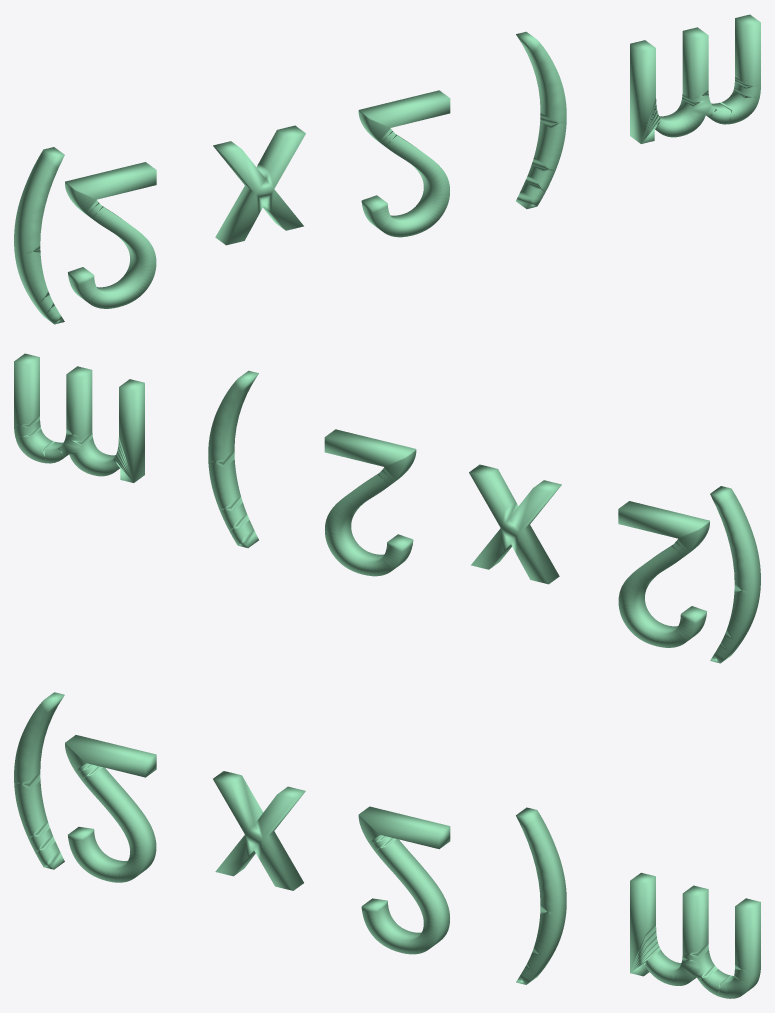
File: start_note.013.obj
The picture shows the model from 3 angles, top to bottom: view 1: azimuth 30°, elevation 25°; view 2: azimuth 150°, elevation 25°; view 3: azimuth 330°, elevation 25°; orthographic projection.
Parts seen in each view (by area): view 1: start_note.013; view 2: start_note.013; view 3: start_note.013.
Part boxes in pixels (x1=…): start_note.013: x1=14, y1=14, x2=760, y2=324; start_note.013: x1=14, y1=353, x2=760, y2=663; start_note.013: x1=14, y1=692, x2=760, y2=998.
Size of the model in its own units: 3.87 by 0.84 by 0.1.
